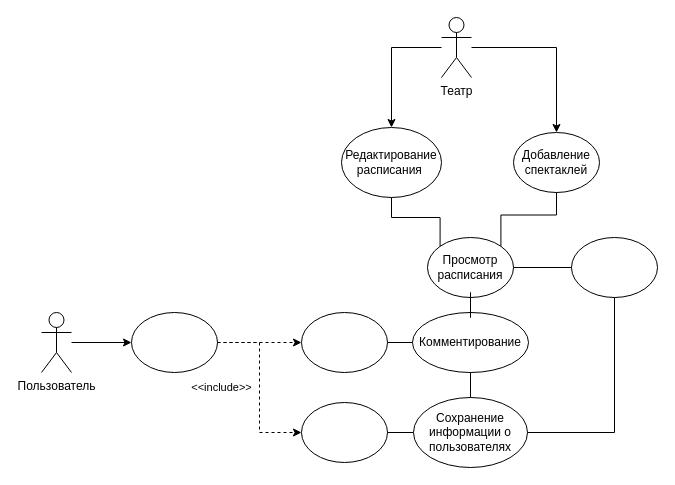
The diagram is 675 pixels wide and 485 high, and some of its shapes have lost their labels. The centre of each missing label's shape, as x and y in pixels:
"Вход" belongs at pixel 344 342.
"Покупка билетов" belongs at pixel 614 267.
"Регистрация" belongs at pixel 344 432.
"Сайт" belongs at pixel 174 342.
